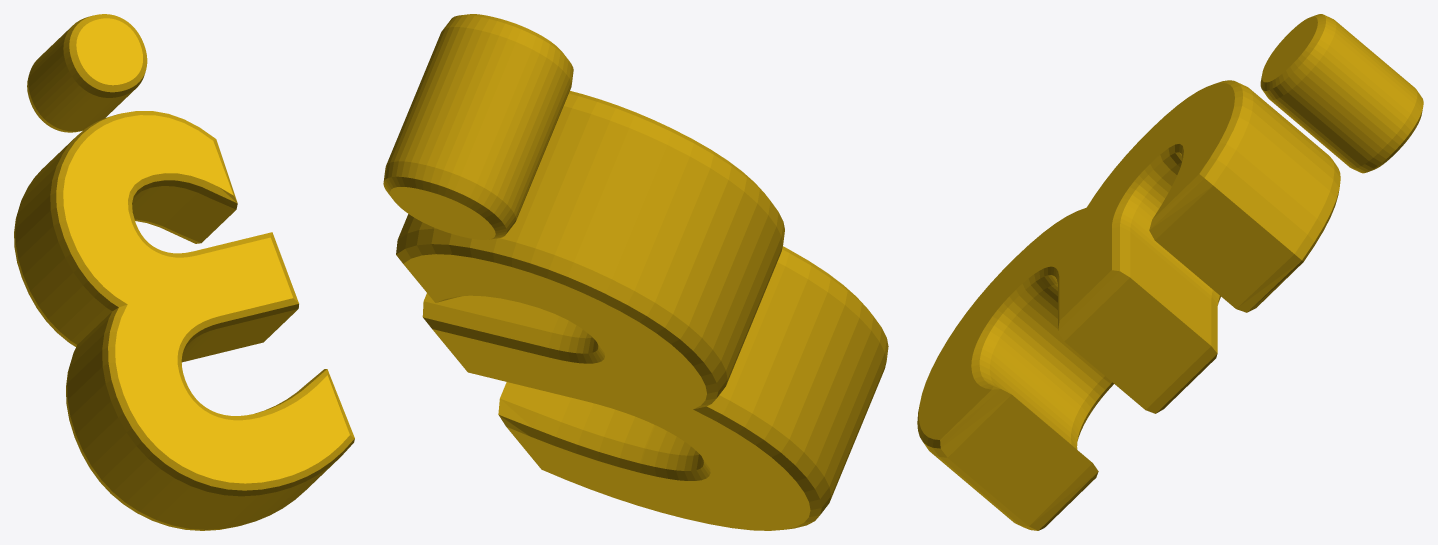
The picture shows the model from 3 angles, left to right: view 1: azimuth 30°, elevation 25°; view 2: azimuth 150°, elevation 25°; view 3: azimuth 270°, elevation 25°; orthographic projection. The views are drawn at different scales.
Parts seen in each view (by area): view 1: letter; view 2: letter; view 3: letter.
Part boxes in pixels (left/top/right/bottom): letter: left=14, top=14, right=354, bottom=530; letter: left=383, top=14, right=888, bottom=530; letter: left=917, top=14, right=1423, bottom=530.
Size of the model in its own units: 0.703 by 1.34 by 1.28.
